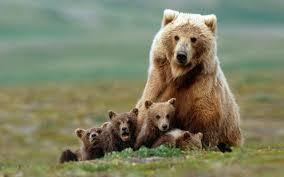bear: (55, 6, 243, 164)
